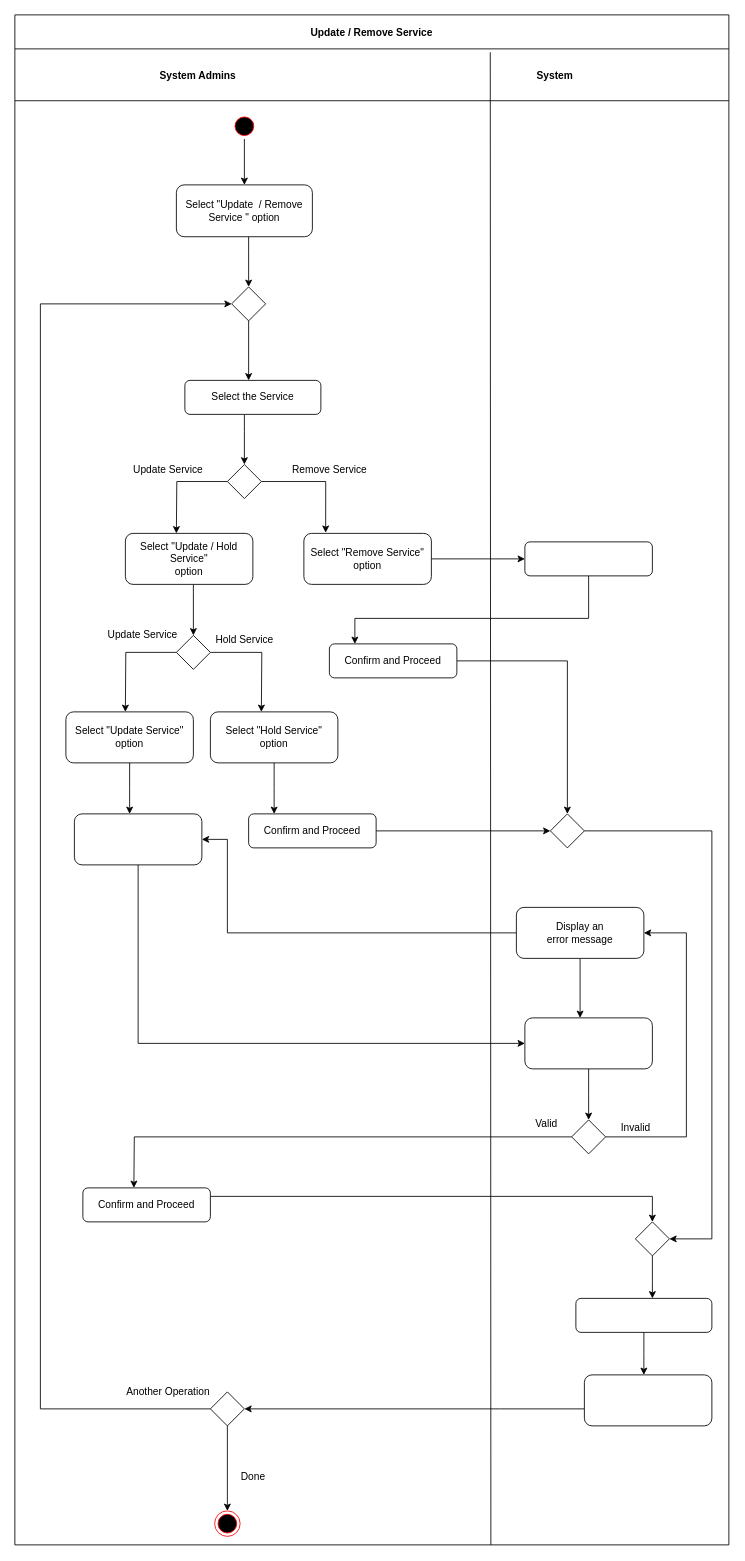
Image size: 745x1561. Some labels were removed from this diagram. Here are the shapes that lost their labels. From the top down, the centre of each, then its label:
(588,558): Provide a summary
(138,839): Select "Update Service" data
(588,1043): Validate Update data
(643,1315): Update Database
(648,1400): Display Success Message
